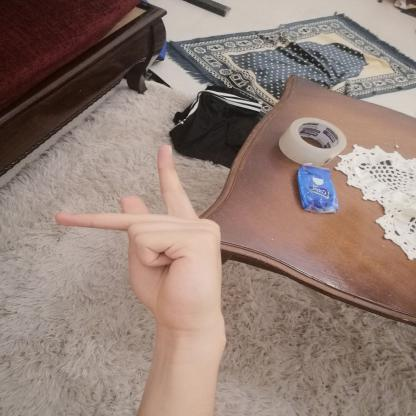DHAA: (39, 133, 235, 339)
